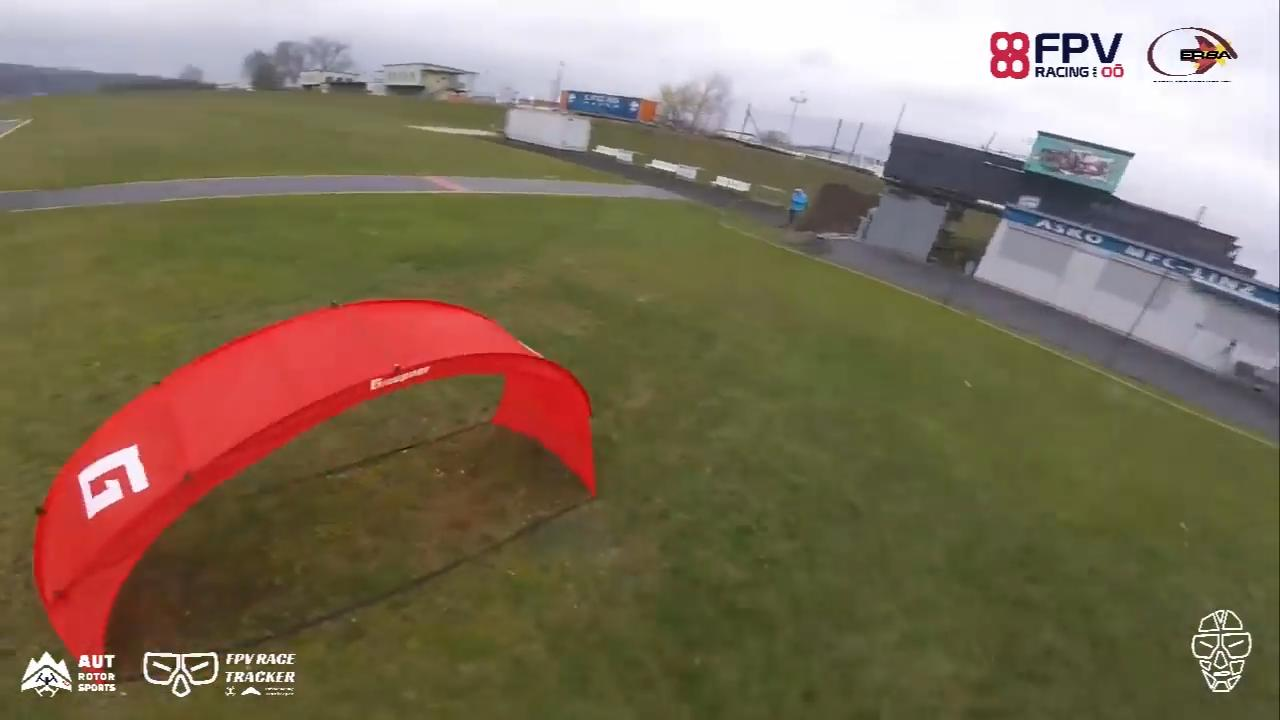gate: (34, 293, 602, 690)
